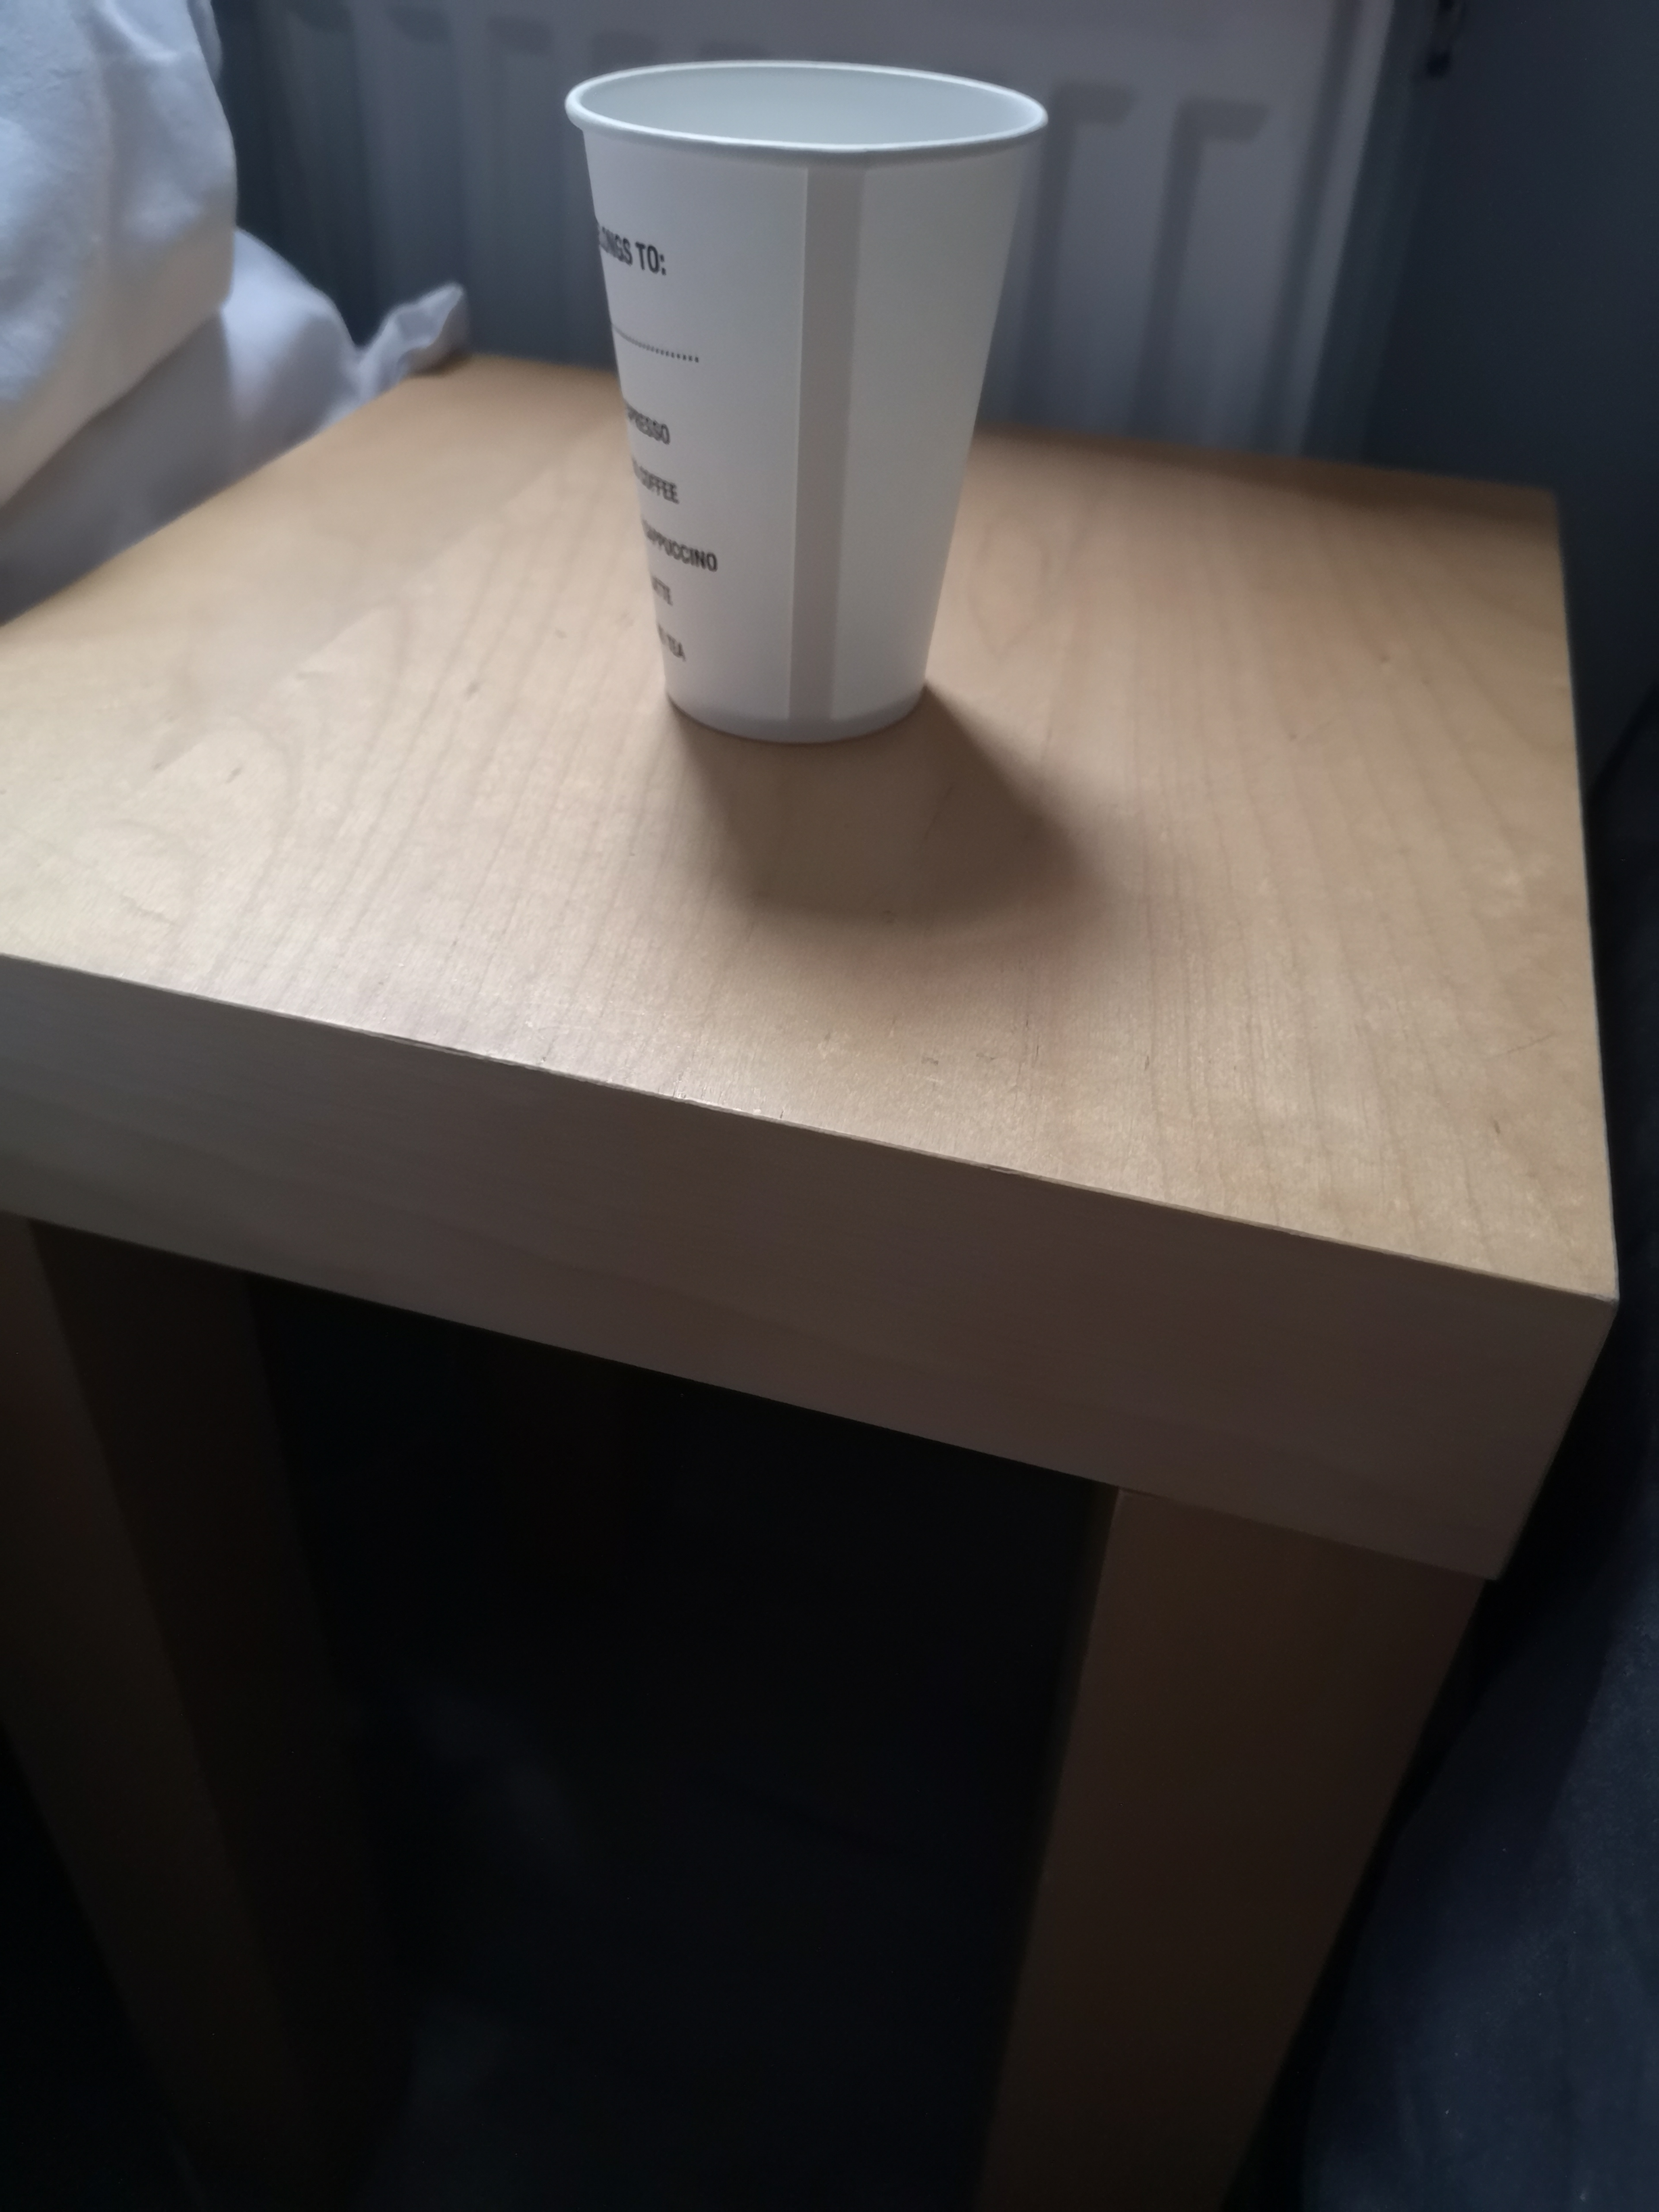cup: (545, 26, 1087, 779)
